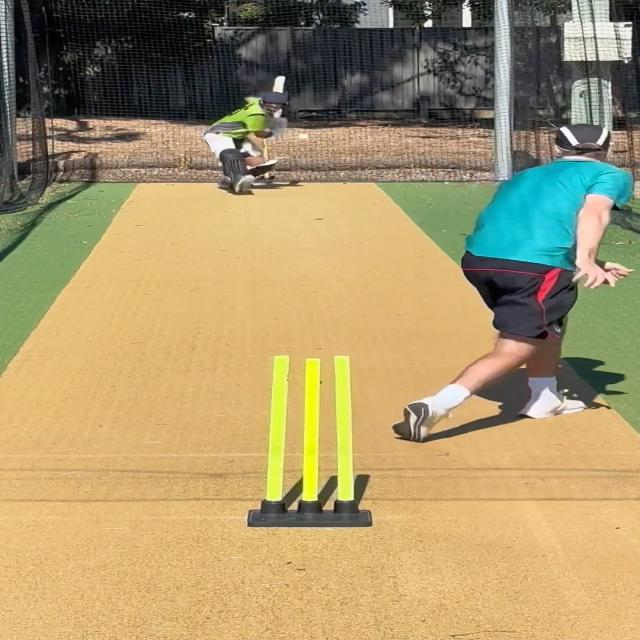ball: (294, 133, 309, 142)
stump: (258, 353, 361, 530)
